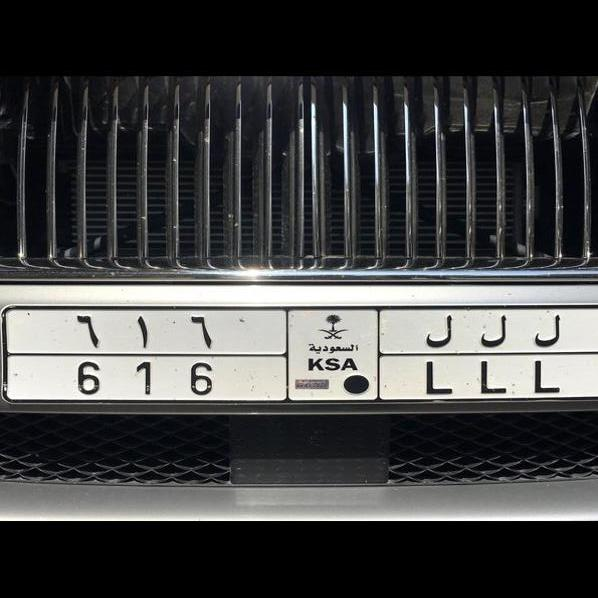numberplate: (47, 309, 573, 402)
